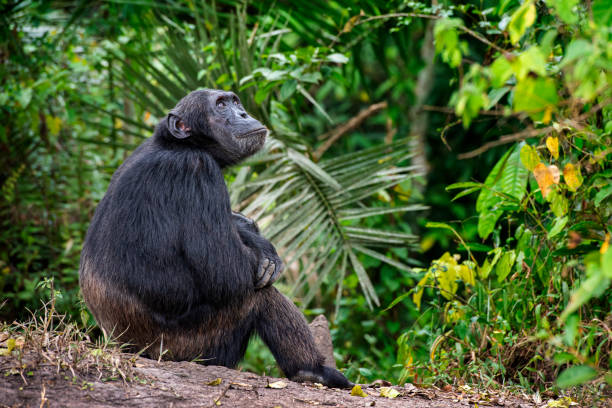chimpanzee: (157, 77, 282, 178)
